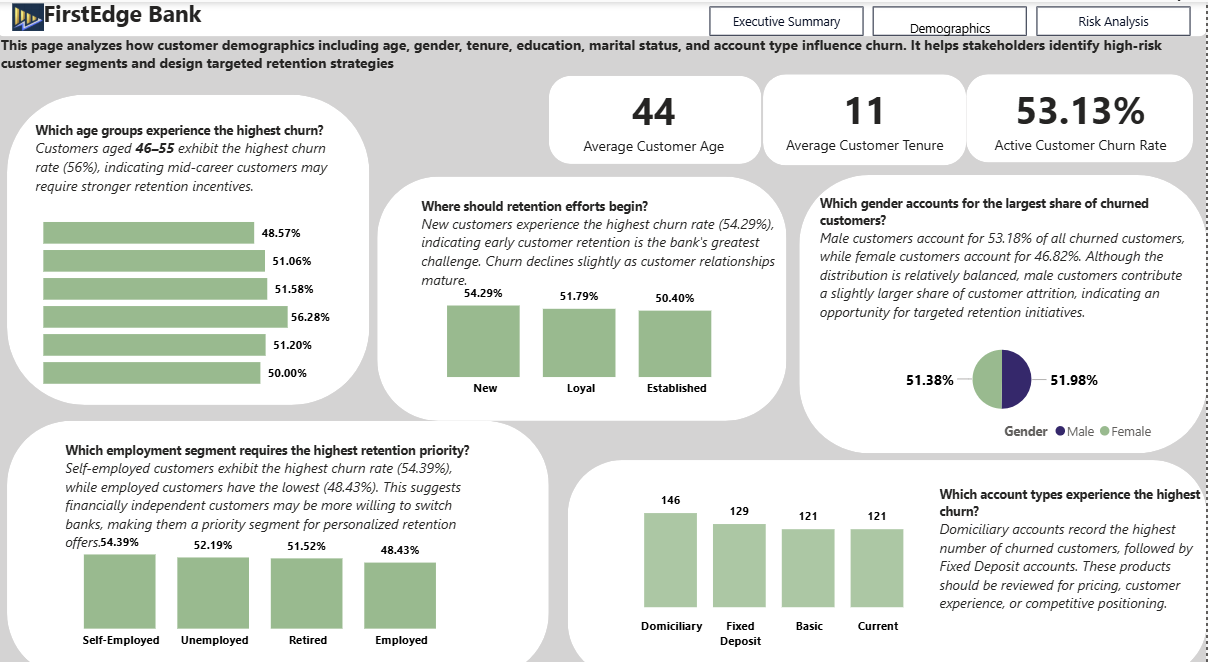

The dashboard page shown, as its layout file describes it:
{"tool":"powerbi","page":{"name":" Demographics","canvas":[1280,720],"ordinal":1},"visuals":[{"type":"shape","box":[404.1,190.1,433.2,258.6],"z":0},{"type":"shape","box":[604.5,489.7,676.4,229.5],"z":1000},{"type":"shape","box":[12,460.6,573.6,258.6],"z":2000},{"type":"shape","box":[849.3,188.4,431.5,294.5],"z":3000},{"type":"shape","box":[12,119.9,383.6,328.8],"z":4000},{"type":"shape","box":[993.2,90.8,239.7,92.5],"z":5000},{"type":"shape","box":[722.6,90.8,215.8,89],"z":6000},{"type":"shape","box":[477.8,87.3,226,92.5],"z":7000},{"type":"shape","box":[0,0,1280.9,49.7],"z":8000},{"type":"textbox","title":"FirstEdge Bank","box":[78.8,10.3,196.9,39.4],"z":9000},{"type":"pageNavigator","box":[755.2,20.5,512,30.8],"z":10000},{"type":"image","box":[0,1.7,68.5,39.4],"z":11000},{"type":"textbox","box":[0,51.4,1280.9,56.5],"z":12000},{"type":"card","fields":{"Values":["Avg(Dim_Customer.Age)"]},"box":[500,92.5,181.5,83.9],"z":13000},{"type":"card","fields":{"Values":["Avg(Dim_Customer.Tenure_Years)"]},"box":[732.9,87.3,195.2,92.5],"z":14000},{"type":"card","fields":{"Values":["_Metrics.Active Churn Rate"]},"box":[1001.7,89,217.5,92.5],"z":15000},{"type":"clusteredColumnChart","fields":{"Category":["Dim_Customer.Tenure_Category"],"Y":["_Metrics.Churn Rate"]},"box":[431.5,291.1,375,140.4],"z":16000},{"type":"clusteredColumnChart","fields":{"Category":["Dim_Customer.Employment_Status"],"Y":["_Metrics.Churn Rate"]},"box":[78.8,570.2,464.1,143.8],"z":17000},{"type":"columnChart","fields":{"Category":["Dim_Customer.Customer_Type"],"Y":["_Metrics.Churned Customer"]},"box":[621.6,512,354.5,184.9],"z":18000},{"type":"textbox","box":[29.1,149,330.5,87.3],"z":19000},{"type":"clusteredBarChart","fields":{"Category":["Dim_Customer.Age_Band"],"Y":["_Metrics.Churn Rate"]},"box":[46.2,236.3,313.4,190.1],"z":20000},{"type":"textbox","box":[866.5,203.8,400.7,169.5],"z":21000},{"type":"pieChart","fields":{"Category":["Dim_Customer.Gender"],"Y":["_Metrics.Churn Rate"]},"box":[897.3,359.6,335.6,118.2],"z":22000},{"type":"textbox","box":[993.2,512,287.7,186.6],"z":23000},{"type":"textbox","box":[68.5,465.8,445.2,140.4],"z":24000},{"type":"textbox","box":[445.2,207.2,392.1,152.4],"z":25000}]}

Visuals, with their boxes in screenshot pixels (x1, y1, x2, y2), scaled from the page's 1280x720 canvas onto the 1208x662 screenshot:
shape: region(381, 175, 790, 413)
shape: region(570, 450, 1207, 661)
shape: region(11, 423, 553, 661)
shape: region(802, 173, 1207, 444)
shape: region(11, 110, 373, 413)
shape: region(937, 83, 1164, 169)
shape: region(682, 83, 886, 165)
shape: region(451, 80, 664, 165)
shape: region(0, 0, 1207, 46)
"FirstEdge Bank" textbox: region(74, 9, 260, 46)
pageNavigator: region(713, 19, 1196, 47)
image: region(0, 2, 65, 38)
textbox: region(0, 47, 1207, 99)
card - Avg(Dim_Customer.Age): region(472, 85, 643, 162)
card - Avg(Dim_Customer.Tenure_Years): region(692, 80, 876, 165)
card - _Metrics.Active Churn Rate: region(945, 82, 1151, 167)
clusteredColumnChart - Dim_Customer.Tenure_Category x _Metrics.Churn Rate: region(407, 268, 761, 397)
clusteredColumnChart - Dim_Customer.Employment_Status x _Metrics.Churn Rate: region(74, 524, 512, 656)
columnChart - Dim_Customer.Customer_Type x _Metrics.Churned Customer: region(587, 471, 921, 641)
textbox: region(27, 137, 339, 217)
clusteredBarChart - Dim_Customer.Age_Band x _Metrics.Churn Rate: region(44, 217, 339, 392)
textbox: region(818, 187, 1196, 343)
pieChart - Dim_Customer.Gender x _Metrics.Churn Rate: region(847, 331, 1164, 439)
textbox: region(937, 471, 1207, 642)
textbox: region(65, 428, 485, 557)
textbox: region(420, 191, 790, 331)
